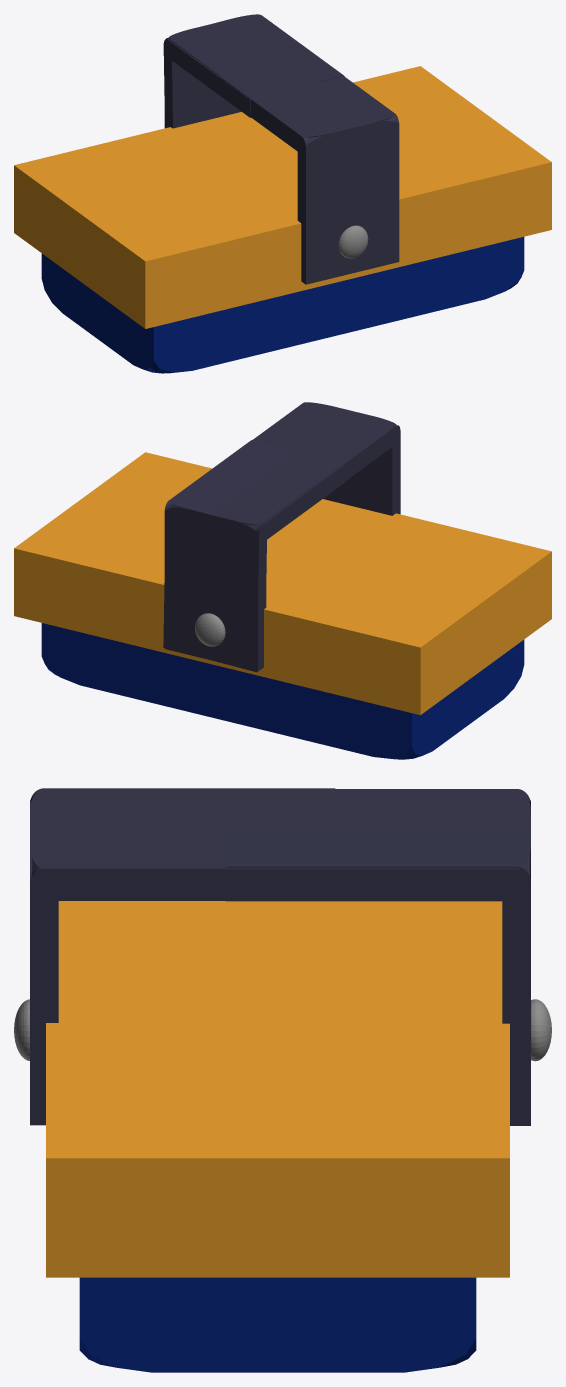
Rendered from blackBoardEraser.fbx.
3 renders of one model, top to bottom at view 1: azimuth 30°, elevation 25°; view 2: azimuth 150°, elevation 25°; view 3: azimuth 270°, elevation 25°, orthographic. The views are drawn at different scales.
Parts seen in each view (by area): view 1: Cube.005, Cube.001, Sphere.003; view 2: Cube.005, Cube.001, Sphere; view 3: Cube.005, Cube.001, Sphere, Sphere.003.
Part boxes in pixels (x1=…): Cube.005: x1=14, y1=66, x2=551, y2=373; Cube.001: x1=163, y1=14, x2=399, y2=284; Sphere.003: x1=338, y1=225, x2=368, y2=258; Cube.005: x1=14, y1=452, x2=551, y2=759; Cube.001: x1=163, y1=402, x2=400, y2=672; Sphere: x1=195, y1=613, x2=225, y2=646; Cube.005: x1=46, y1=901, x2=509, y2=1372; Cube.001: x1=30, y1=788, x2=530, y2=1125; Sphere: x1=531, y1=999, x2=551, y2=1061; Sphere.003: x1=14, y1=999, x2=29, y2=1060.
Bounding box in the file's own units: 658 × 338 × 427.
